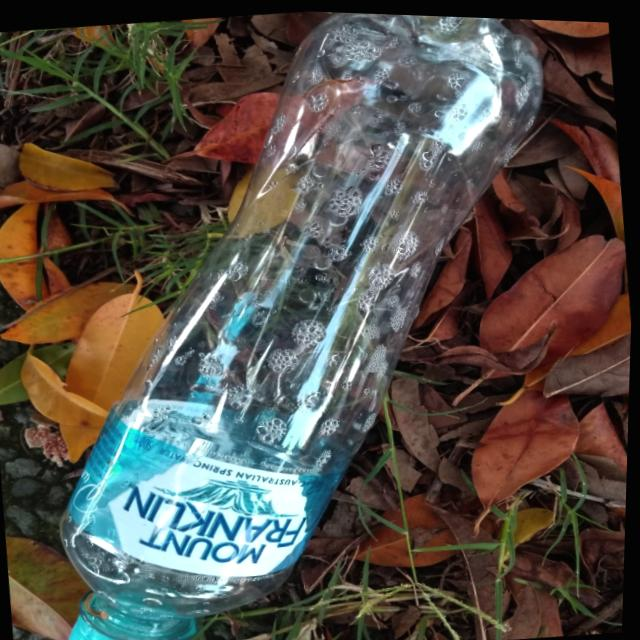anorganik: (3, 1, 613, 640)
